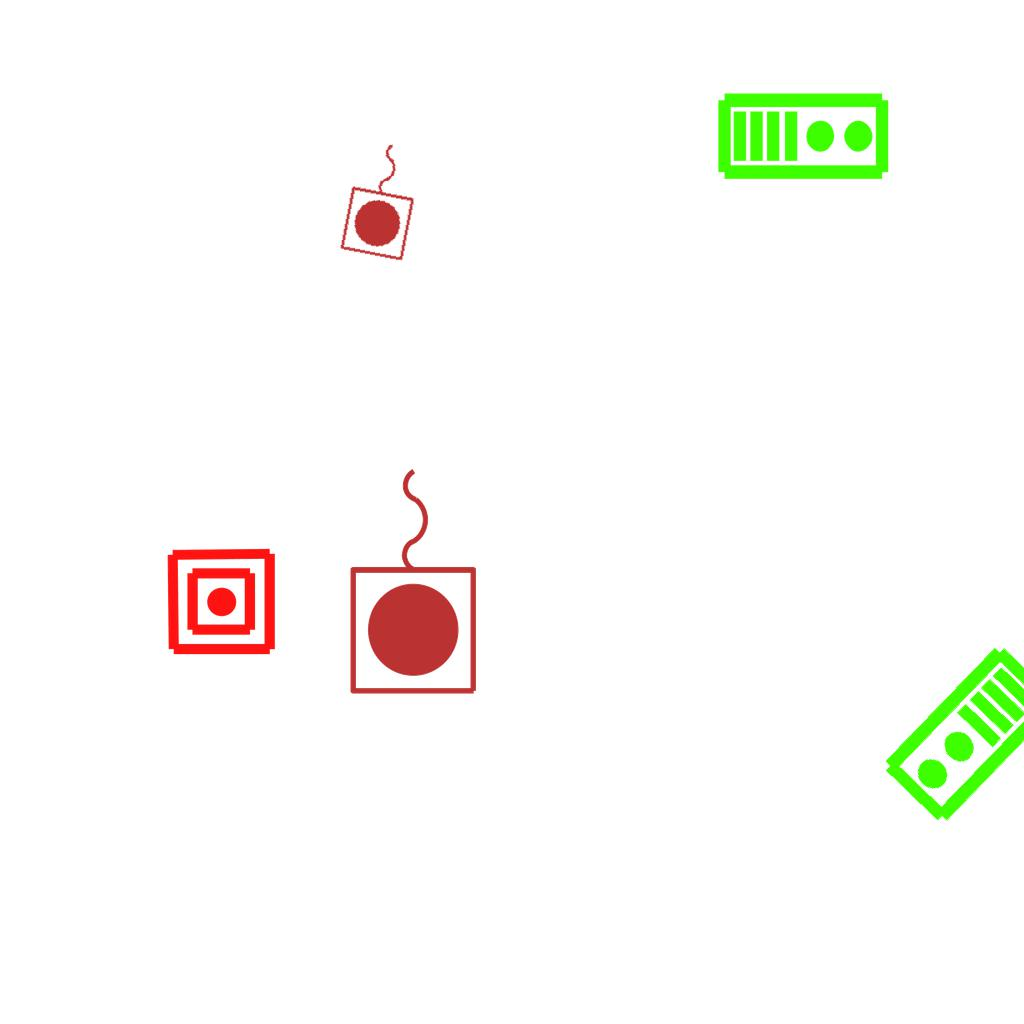Gegensprechanlage_mit_Video: (876, 639, 1024, 833), (716, 87, 892, 182)
NAM-Nichtautomatischer_Melder: (165, 545, 278, 658)
Zugtaster: (343, 458, 487, 702), (336, 132, 430, 266)
